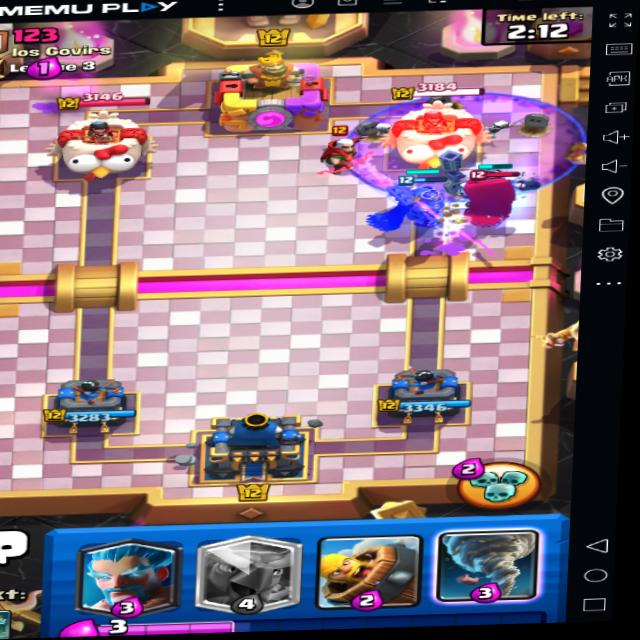magic-archer: (308, 124, 374, 181)
skeleton-king: (443, 154, 531, 232)
